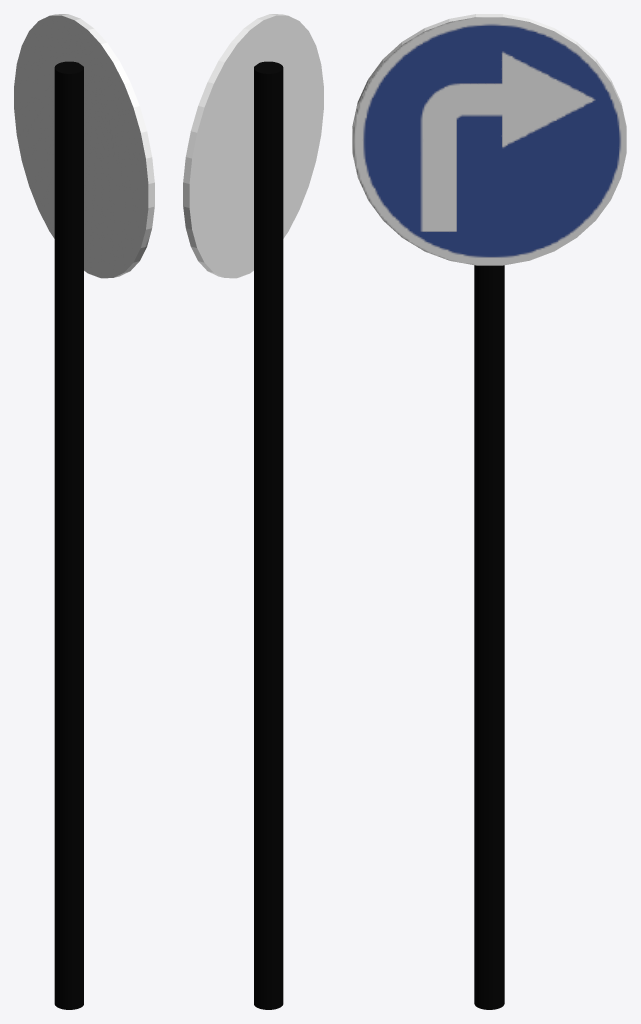
Rendered from Sign_right.fbx.
3 renders of one model, left to right at view 1: azimuth 30°, elevation 25°; view 2: azimuth 150°, elevation 25°; view 3: azimuth 270°, elevation 25°, orthographic. The views are drawn at different scales.
Parts seen in each view (by area): view 1: Pole_RIght, Sign_Right; view 2: Pole_RIght, Sign_Right; view 3: Sign_Right, Pole_RIght.
Boxes of the visible parts, <box> form: Pole_RIght: <box>54,61,83,1009</box>; Sign_Right: <box>14,14,154,278</box>; Pole_RIght: <box>254,61,283,1009</box>; Sign_Right: <box>183,14,323,278</box>; Sign_Right: <box>352,14,626,265</box>; Pole_RIght: <box>474,265,504,1009</box>.
Size of the model in its own units: 5.85 by 176 by 43.79.
Materials: 2 (1 with a texture image).
